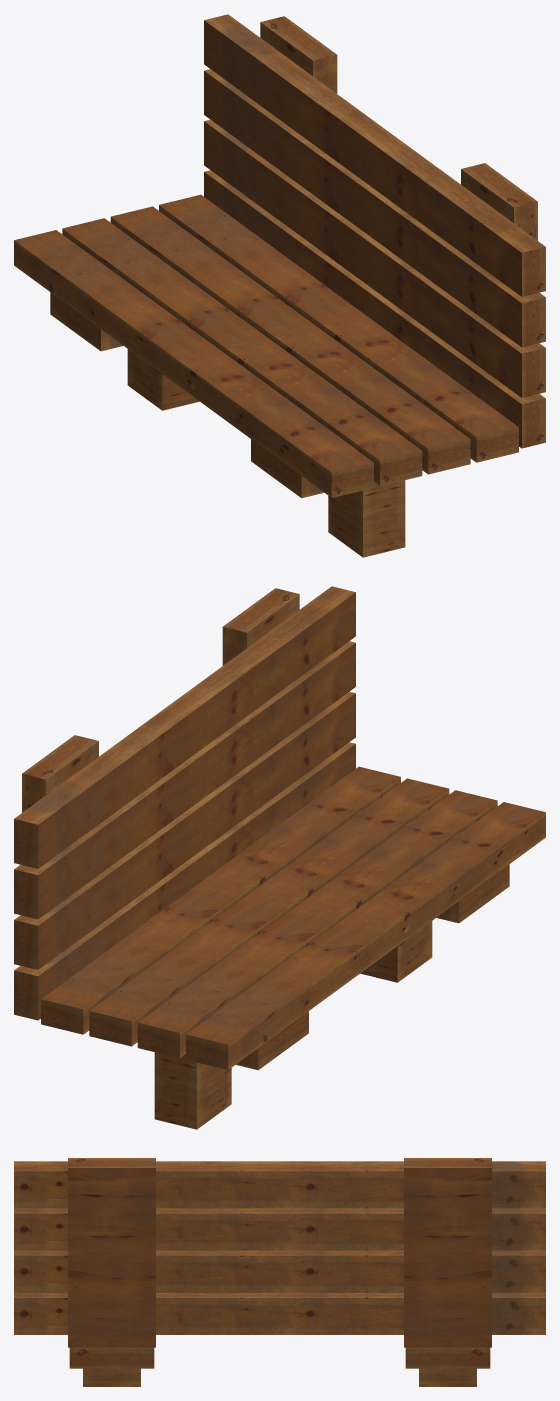
The model's file is Banca.fbx.
The picture shows the model from 3 angles, top to bottom: view 1: azimuth 30°, elevation 25°; view 2: azimuth 150°, elevation 25°; view 3: azimuth 270°, elevation 25°; orthographic projection. The views are drawn at different scales.
Parts seen in each view (by area): view 1: Cube.008; view 2: Cube.008; view 3: Cube.008.
Boxes of the visible parts, bbox=[...] form: Cube.008: bbox=[14, 14, 545, 557]; Cube.008: bbox=[14, 586, 545, 1129]; Cube.008: bbox=[14, 1158, 545, 1386].
Size of the model in its own units: 395 by 510 by 912.
